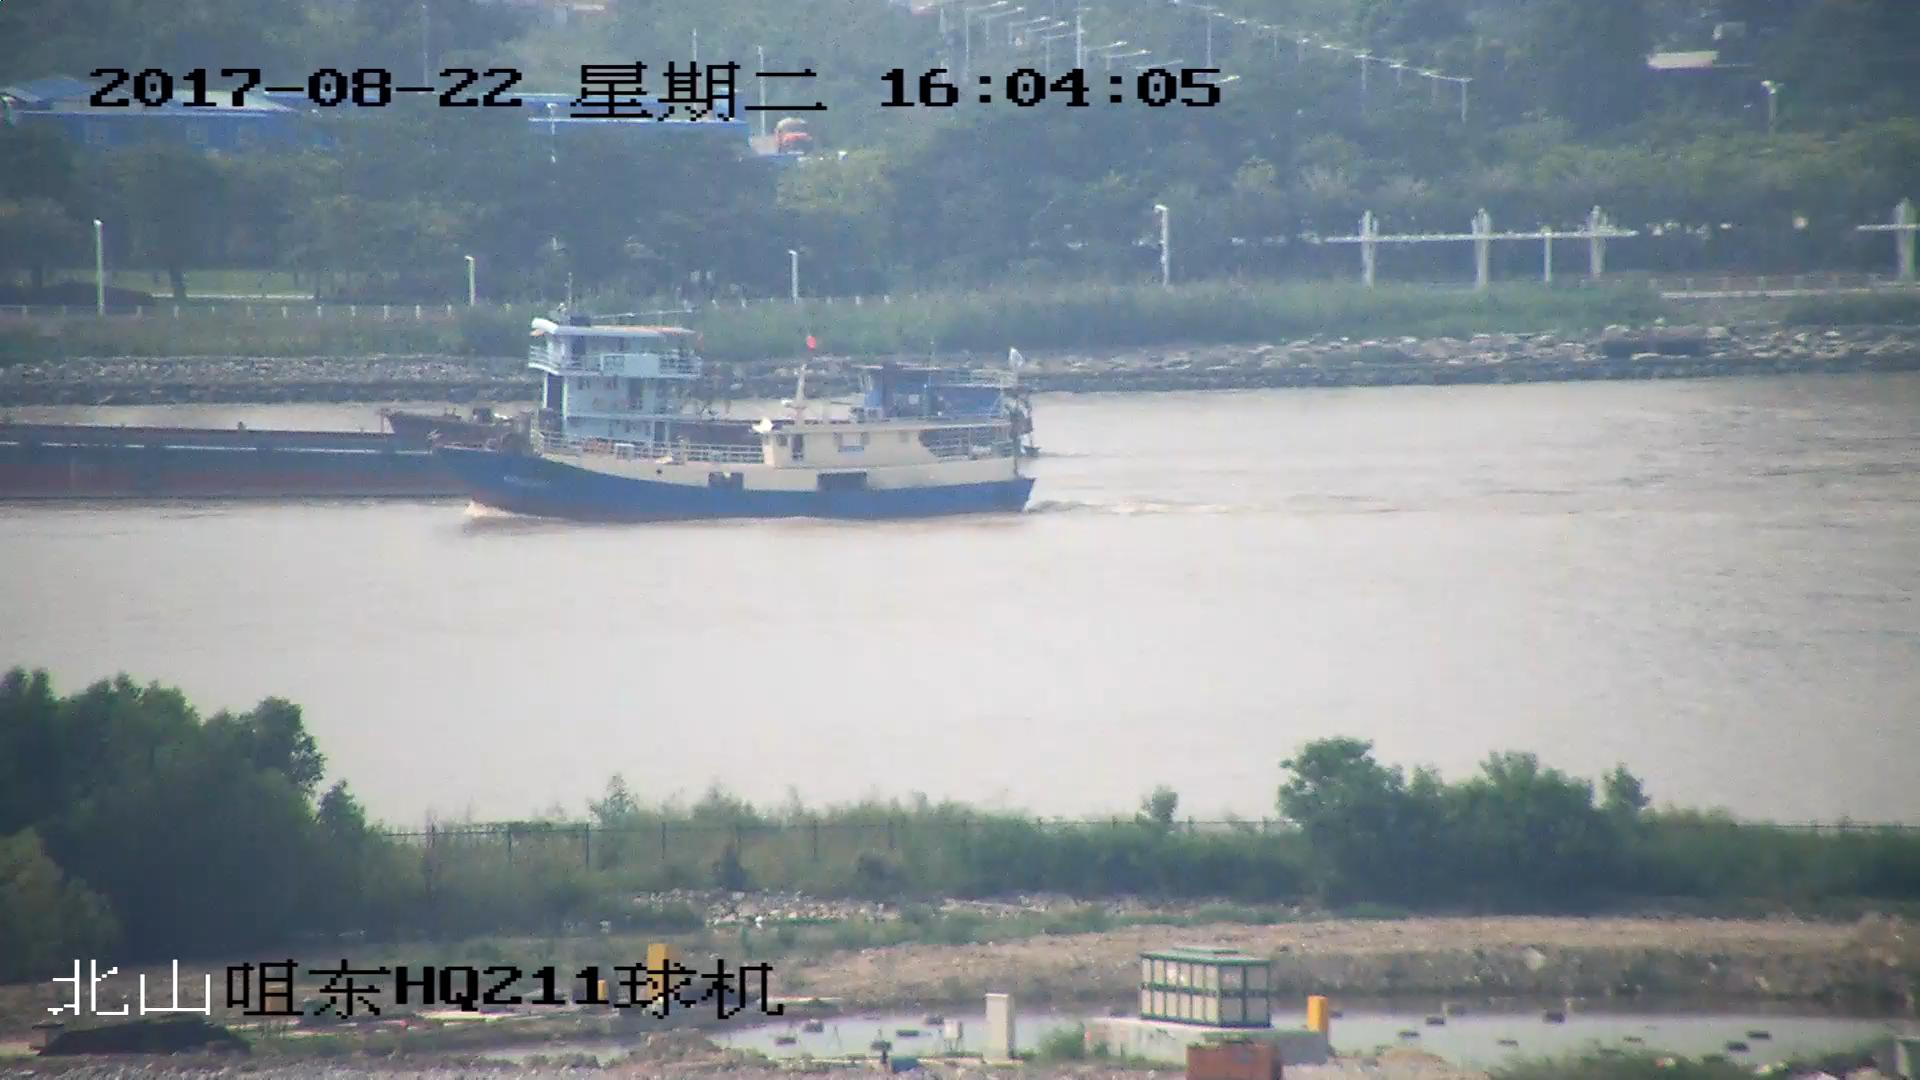bulk cargo carrier: (1, 318, 702, 501)
fishing boat: (433, 325, 1038, 522)
